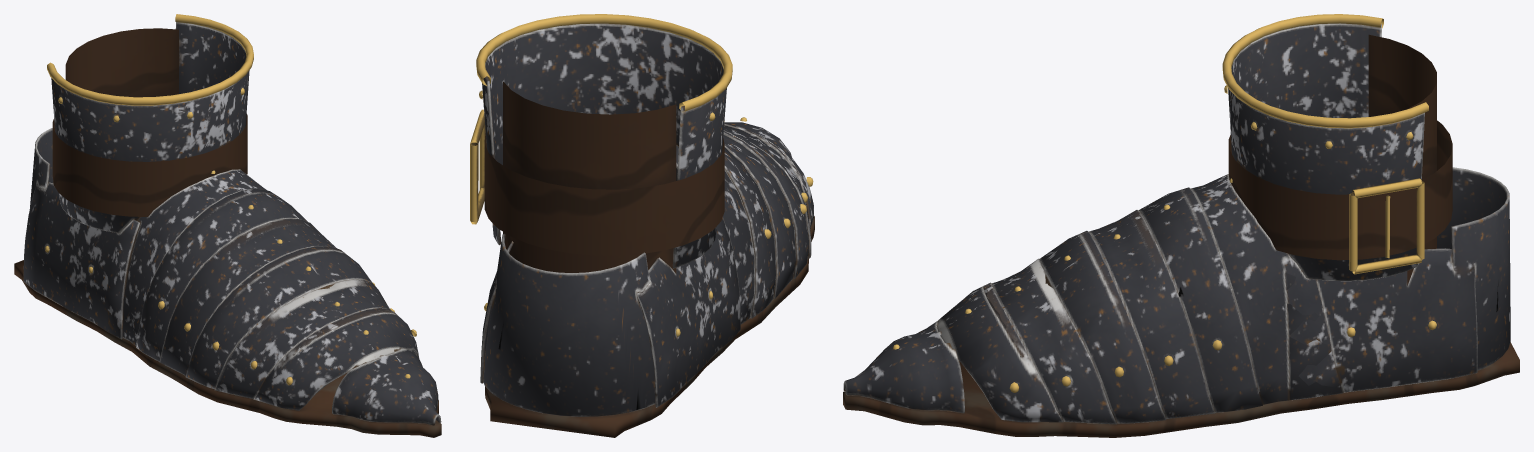
File: SM_EagleSabatons_L_LOD1.fbx
The picture shows the model from 3 angles, left to right: view 1: azimuth 30°, elevation 25°; view 2: azimuth 150°, elevation 25°; view 3: azimuth 270°, elevation 25°; orthographic projection. The views are drawn at different scales.
Visible parts, largest first — view 1: SM_EagleSabatons_L_LOD1; view 2: SM_EagleSabatons_L_LOD1; view 3: SM_EagleSabatons_L_LOD1.
Part boxes in pixels (box(x1,y1,x2,y2)): SM_EagleSabatons_L_LOD1: box(14, 14, 441, 437); SM_EagleSabatons_L_LOD1: box(470, 14, 814, 437); SM_EagleSabatons_L_LOD1: box(843, 14, 1519, 437).
Size of the model in its own units: 0.1354 by 0.1413 by 0.2938.
